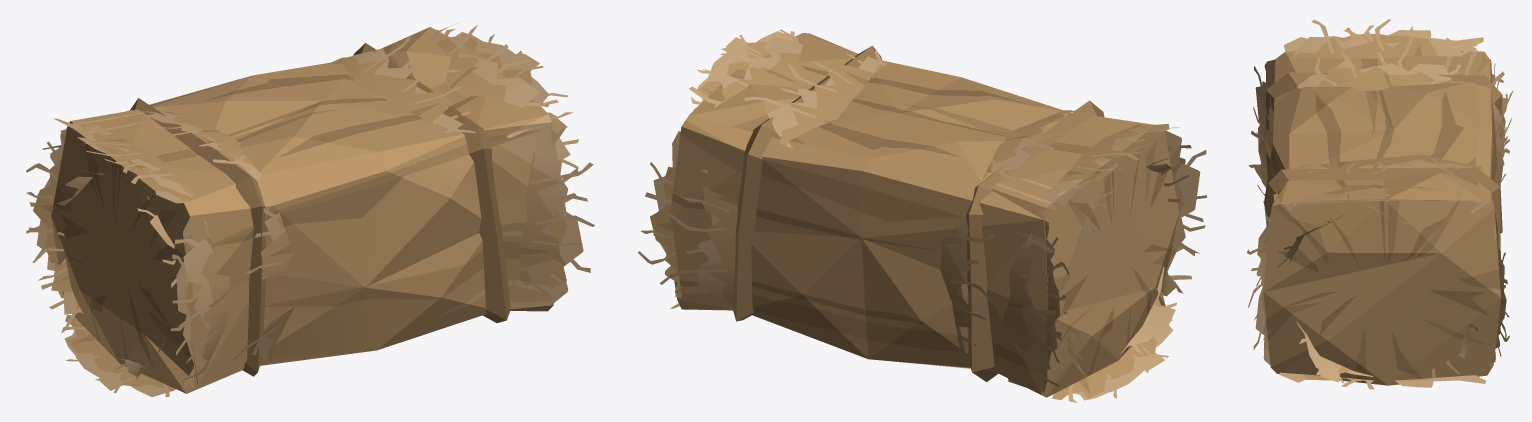
The model's file is SM_Prop_Hay_Bale_01.fbx.
The picture shows the model from 3 angles, left to right: view 1: azimuth 30°, elevation 25°; view 2: azimuth 150°, elevation 25°; view 3: azimuth 270°, elevation 25°; orthographic projection. The views are drawn at different scales.
Visible parts, largest first — view 1: SM_Prop_Hay_Bale_01; view 2: SM_Prop_Hay_Bale_01; view 3: SM_Prop_Hay_Bale_01.
Part boxes in pixels (left/top/right/bottom): SM_Prop_Hay_Bale_01: left=26, top=22, right=594, bottom=397; SM_Prop_Hay_Bale_01: left=638, top=29, right=1206, bottom=402; SM_Prop_Hay_Bale_01: left=1247, top=19, right=1513, bottom=389.
Size of the model in its own units: 163 by 83.17 by 96.94.
